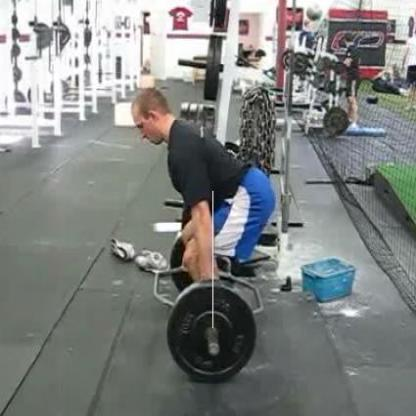barbell: (153, 227, 264, 383)
